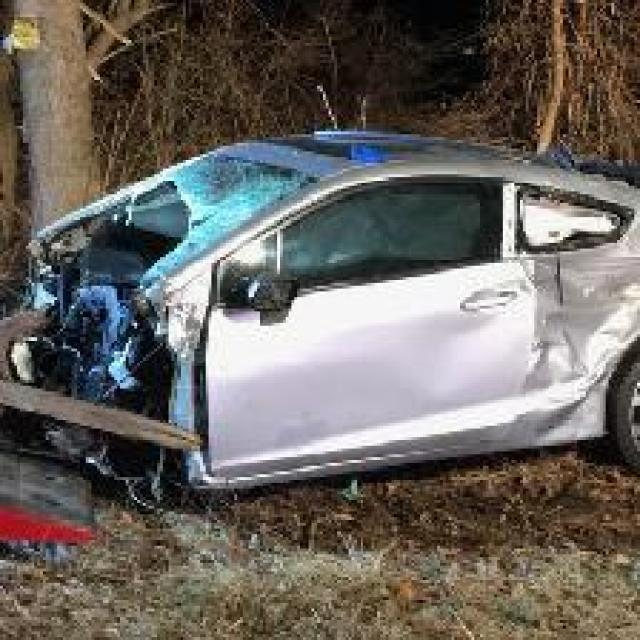damaged: (28, 142, 312, 498), (517, 168, 637, 460)
